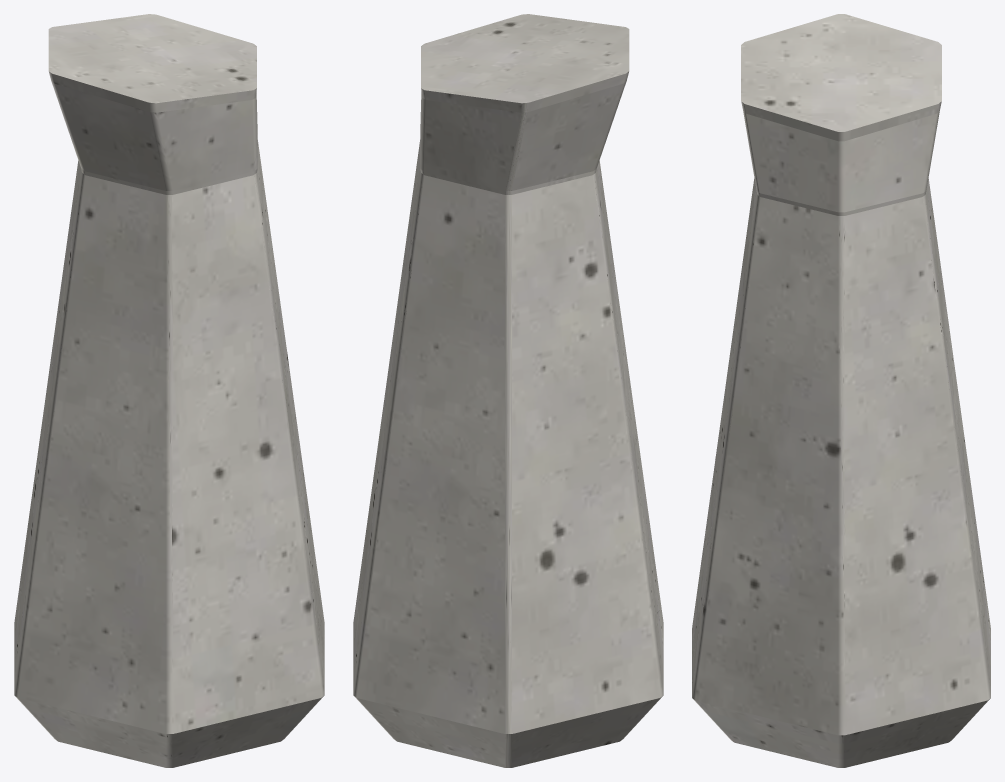
The model's file is hexalith_white_knight.glb.
3 views of the same model, side by side, from view 1: azimuth 30°, elevation 25°; view 2: azimuth 150°, elevation 25°; view 3: azimuth 270°, elevation 25° (orthographic). The views are drawn at different scales.
Parts seen in each view (by area): view 1: HEXALITH_white_knight; view 2: HEXALITH_white_knight; view 3: HEXALITH_white_knight.
Boxes of the visible parts, box(x1,y1,x2,y2) form: HEXALITH_white_knight: box(14, 14, 324, 767); HEXALITH_white_knight: box(353, 14, 663, 767); HEXALITH_white_knight: box(692, 14, 990, 767).
Bounding box in the file's own units: 0.0307 × 0.0639 × 0.0268.
1 material, 1 textured.
